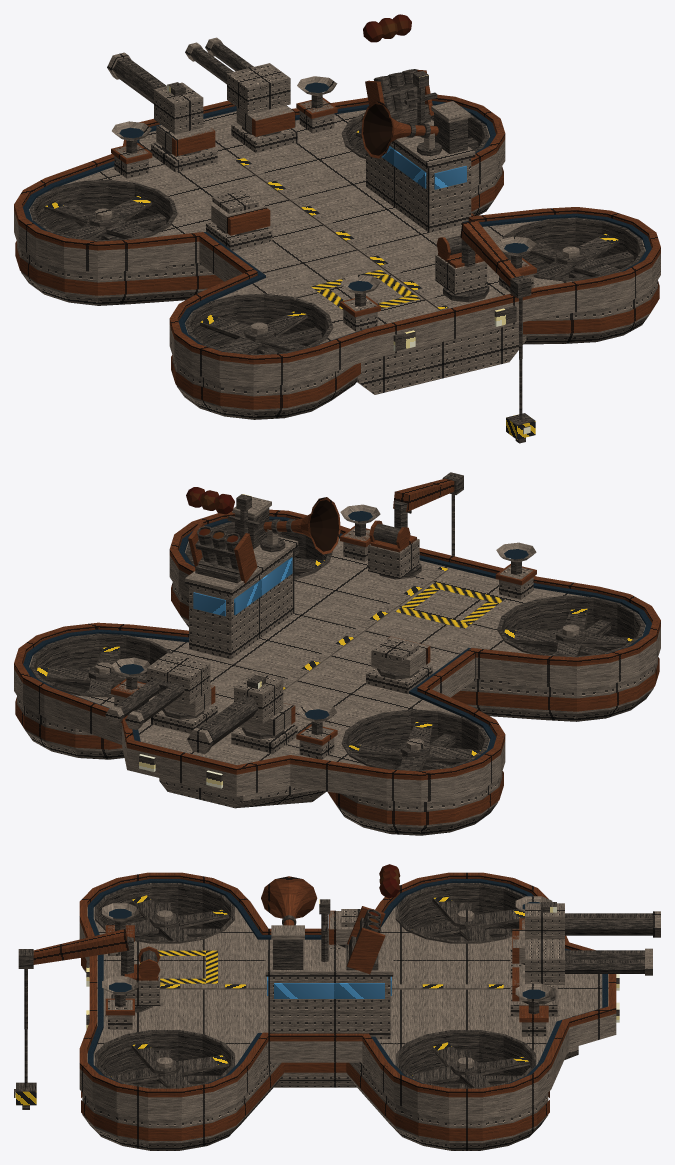
Rendered from swallowtail.glb.
3 views of the same model, one above another, from view 1: azimuth 30°, elevation 25°; view 2: azimuth 150°, elevation 25°; view 3: azimuth 270°, elevation 25° (orthographic). The views are drawn at different scales.
Visible parts, largest first — view 1: deck.001, deck.002, coaming, hull, island, well, well.001, sponson, screen_rail, well.003, sponson.004, band (+27 smaller); view 2: deck.001, deck.002, coaming, island, well.001, well, sponson.004, screen_rail, well.002, sponson, band.002, band (+35 smaller); view 3: deck.001, deck.002, coaming, island, well.002, well.003, screen_rail, well, well.001, sponson.006, sponson.002, band.001 (+32 smaller).
Part boxes in pixels (x1,y1,x2,y2): deck.001: (29,110,645,344); deck.002: (14,139,660,386); coaming: (14,94,660,364); hull: (356,322,526,394); island: (366,142,471,232); well: (30,179,177,241); well.001: (185,293,333,355); sponson: (17,242,214,305); screen_rail: (23,101,651,353); well.003: (502,217,644,281); sponson.004: (172,356,358,419); band: (15,241,223,295); deck.001: (29,538,645,766); deck.002: (14,555,660,802); coaming: (14,509,660,780); island: (189,550,294,659); well.001: (497,595,644,657); well: (341,709,489,771); sponson.004: (460,658,657,721); screen_rail: (23,516,651,767); well.002: (30,633,171,697); sponson: (328,772,502,835); band.002: (451,657,659,711); band: (328,771,503,825); deck.001: (87,907,608,1065); deck.002: (79,922,616,1118); coaming: (79,872,616,1097); island: (268,976,390,1039); well.002: (395,1030,535,1088); well.003: (95,1030,234,1088); screen_rail: (88,879,607,1083); well: (395,883,525,943); well.001: (95,883,234,943); sponson.006: (82,1061,283,1150); sponson.002: (347,1061,548,1150); band.001: (346,1062,549,1140).
Bounding box in the file's own units: 110 × 61.55 × 138.
11 materials, 11 textured.
